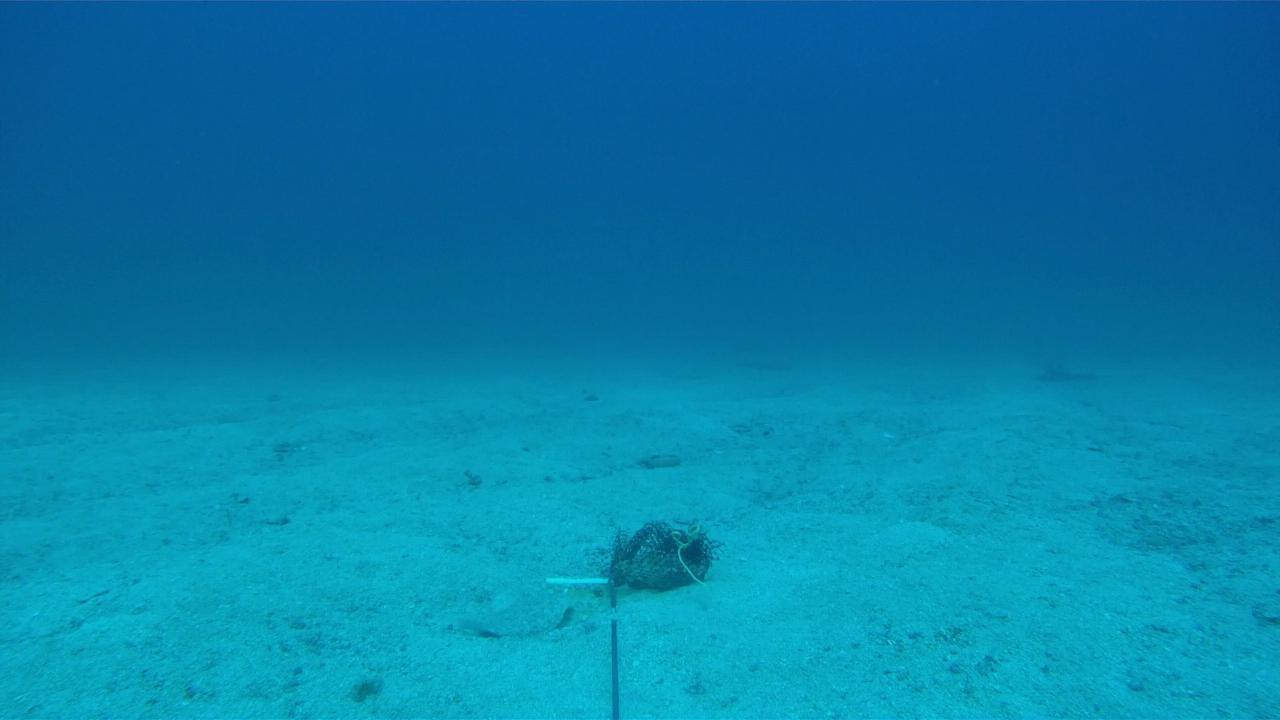bothus: (452, 587, 576, 639)
